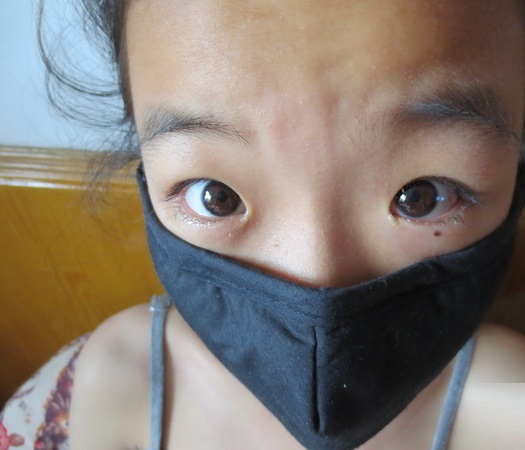face_mask: (139, 1, 524, 443)
